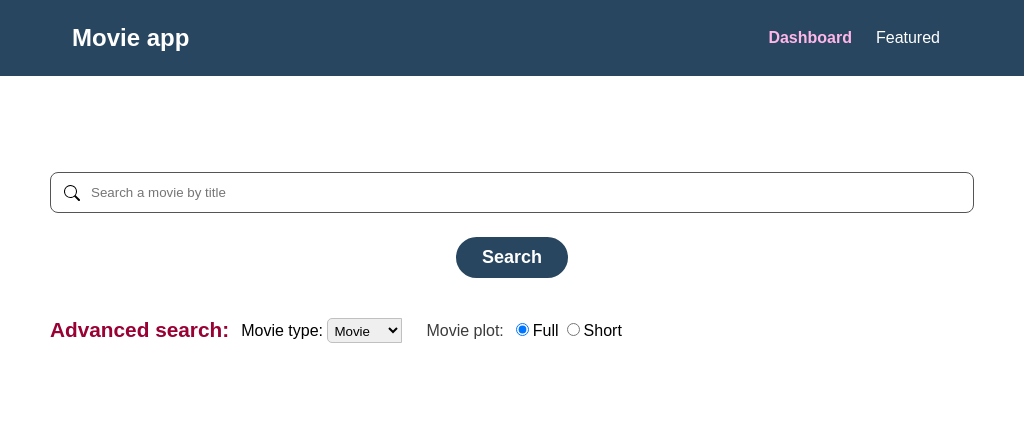
Test case: Movie search: unhappy flow › should display an error message if the search string was empty
The width and height of the screenshot is (1024, 432).
Click the button with test id "search_button".
click(512, 258)  # box x1=456 y1=237 x2=568 y2=278
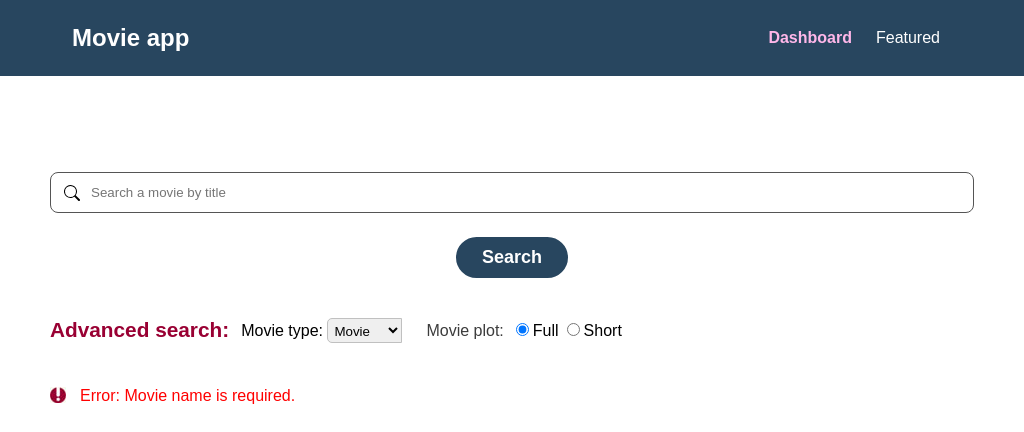
Check: the text "Error: Movie name is required." is shown, box x1=50 y1=375 x2=974 y2=415
